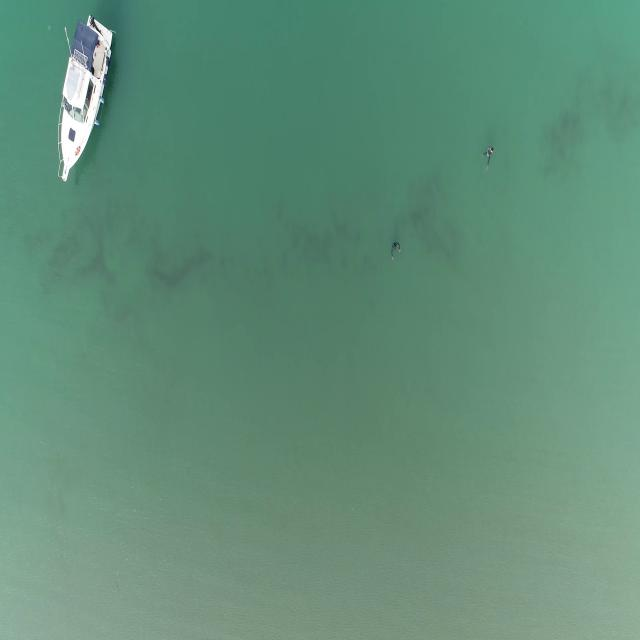boat: (56, 15, 117, 183)
person: (484, 143, 495, 172), (388, 239, 402, 261)
